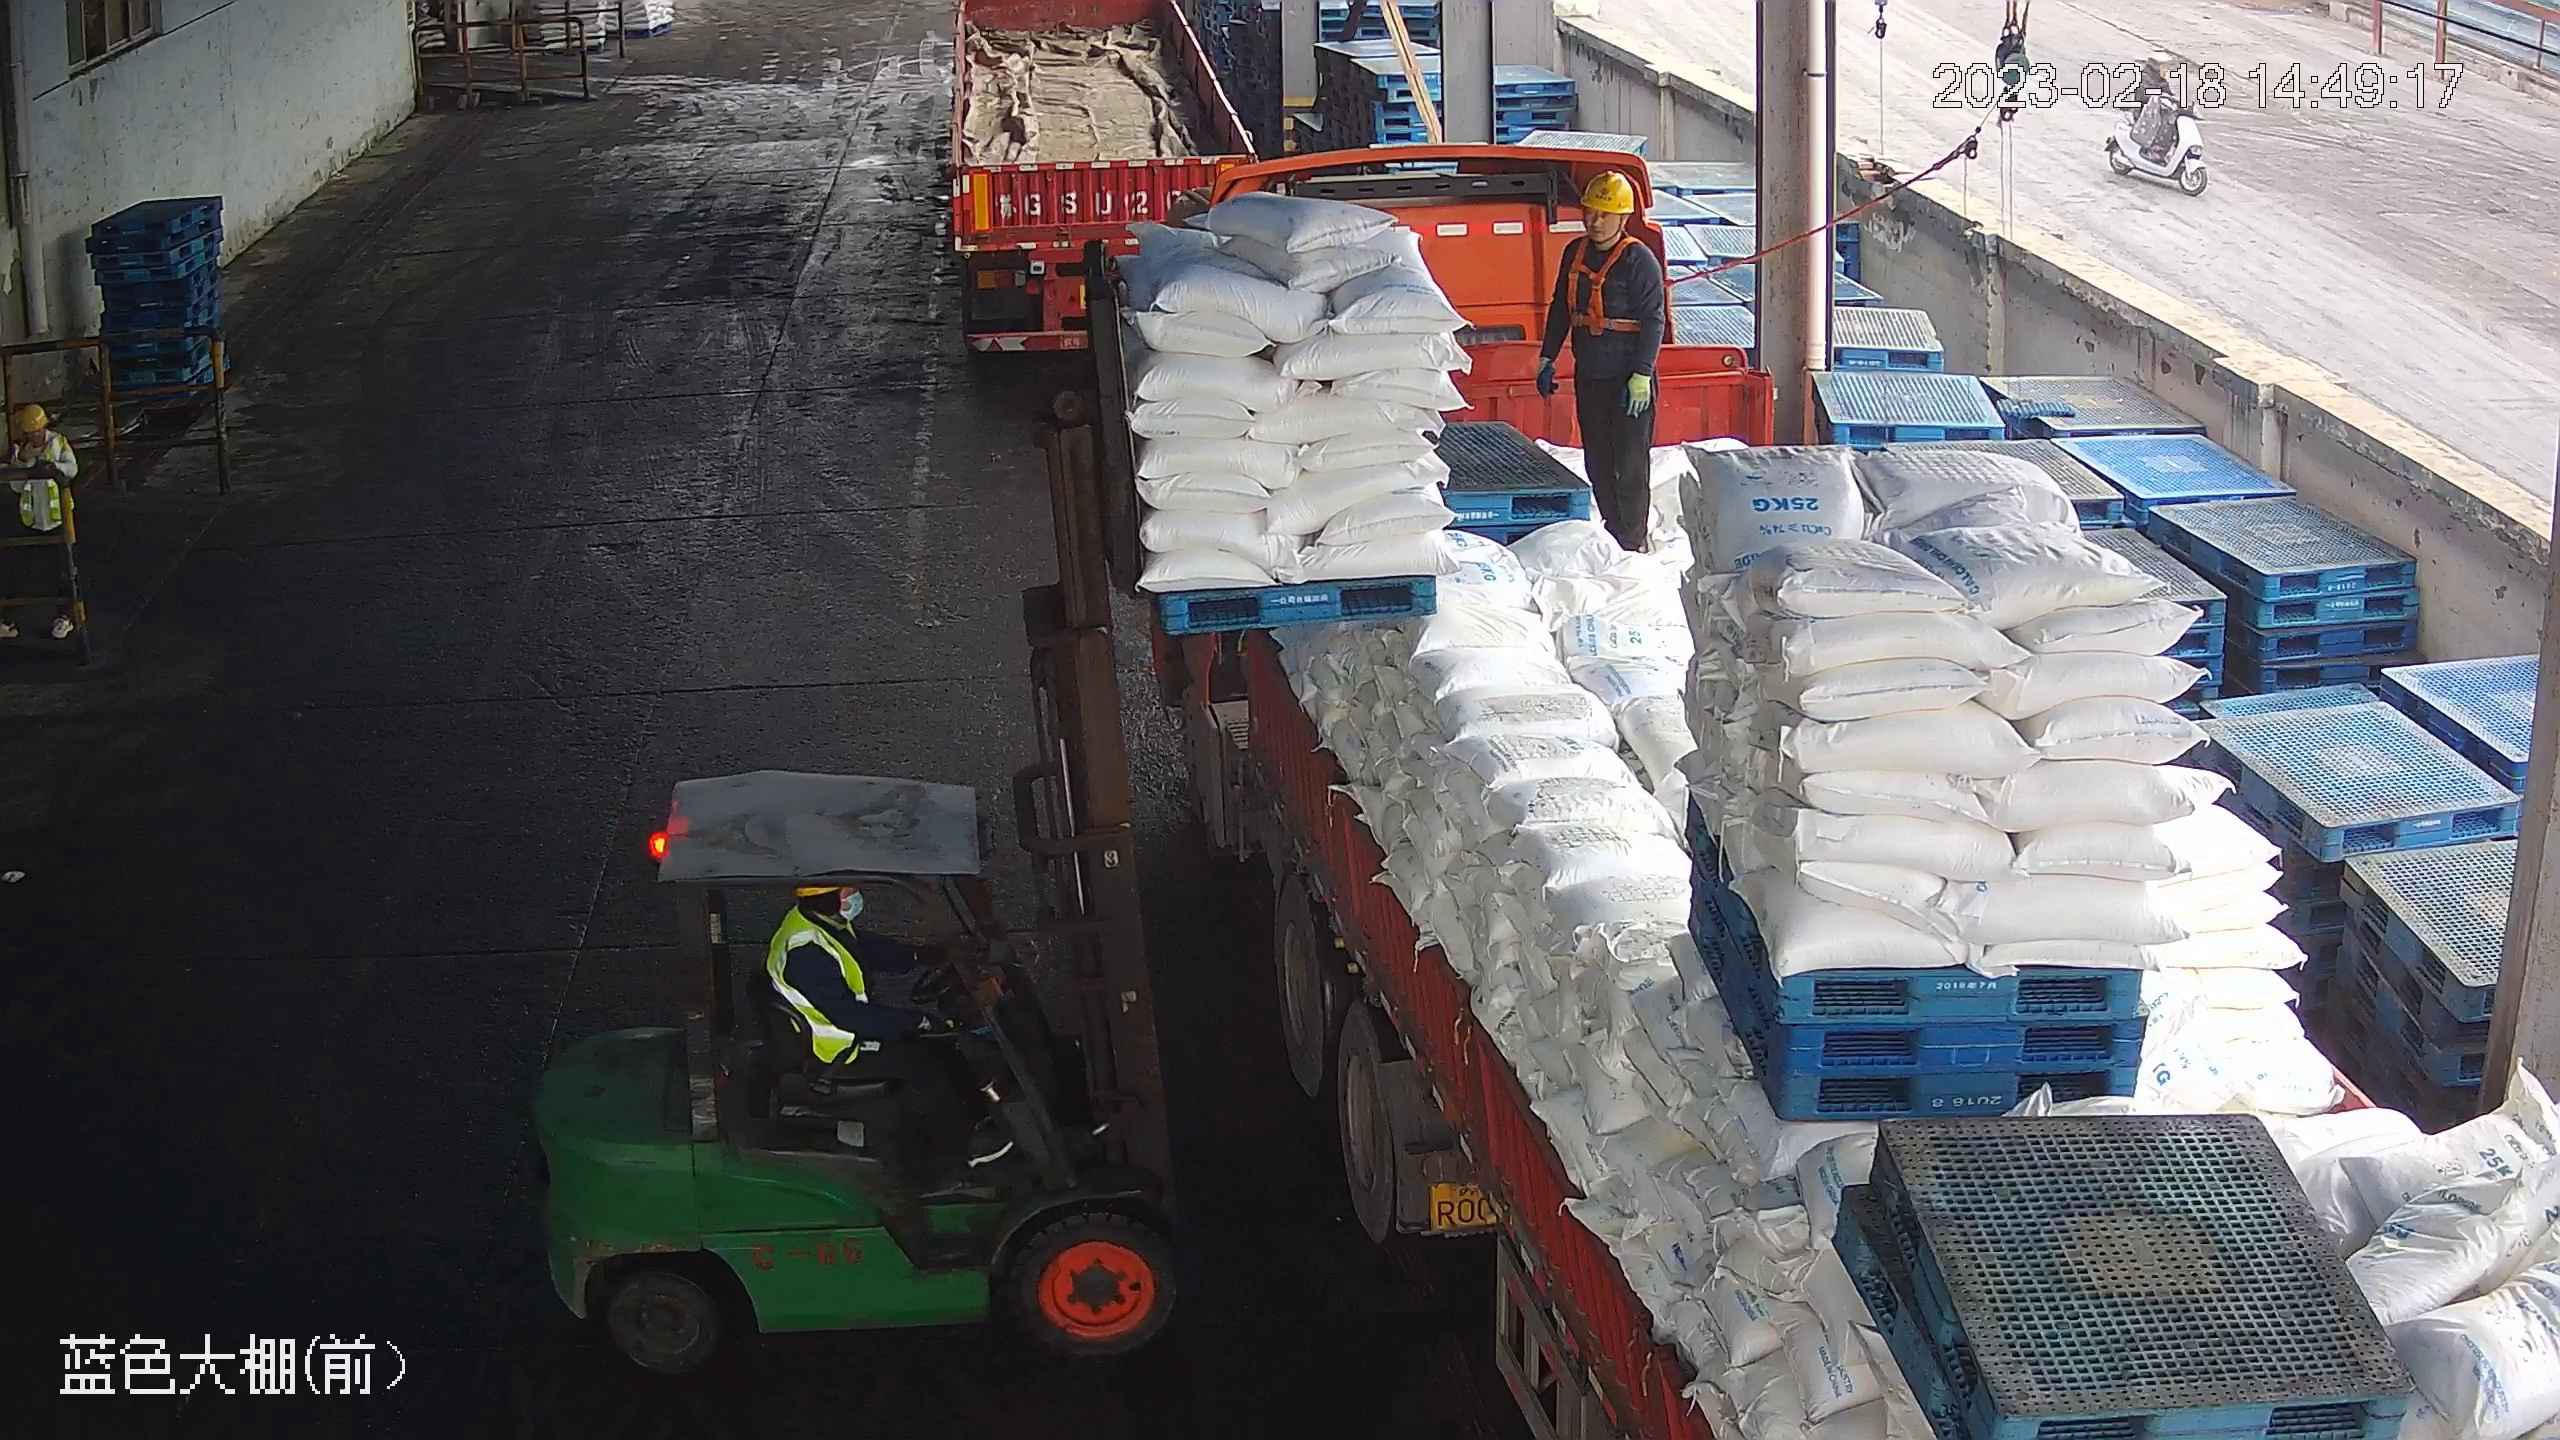belt: (1562, 229, 1649, 335)
head: (1553, 167, 1668, 290), (767, 880, 866, 976)
helmet: (1579, 166, 1640, 214), (16, 402, 47, 428)
people: (768, 880, 1011, 1162), (1532, 165, 1675, 558)
truck: (1052, 162, 2556, 1440), (923, 1, 1251, 329)
